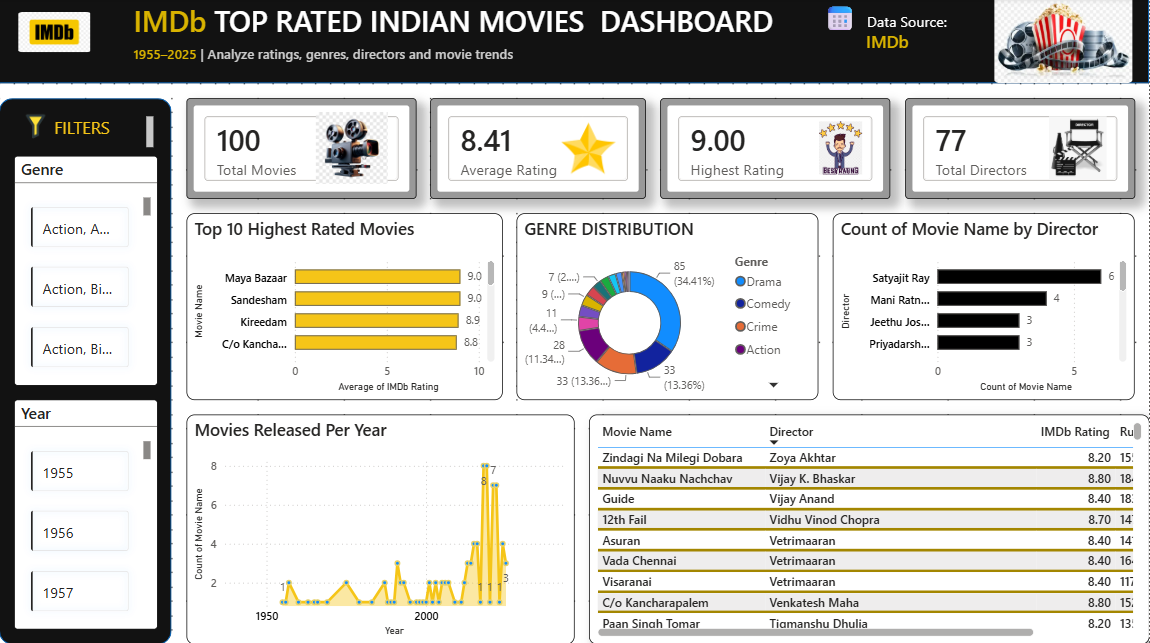

The dashboard page shown, as its layout file describes it:
{"tool":"powerbi","page":{"name":"Executive overview","canvas":[1280,720],"ordinal":0},"visuals":[{"type":"shape","box":[0,0,1280,96],"z":0},{"type":"image","box":[16,16,90,45],"z":1000},{"type":"textbox","box":[144,0,864,64],"z":2000},{"type":"textbox","box":[144,48,656,48],"z":3000},{"type":"textbox","box":[912,0,176,80],"z":4000},{"type":"textbox","box":[960,32,96,48],"z":5000},{"type":"image","box":[1104,0,160,96],"z":6000},{"type":"shape","box":[0,112,192,608],"z":7000},{"type":"textbox","box":[16,128,160,48],"z":8000},{"type":"image","box":[16,128,48,32],"z":9000},{"type":"cardVisual","fields":{"Data":["Movies.Total Movies"]},"box":[208,112,256,112],"z":10000},{"type":"cardVisual","fields":{"Data":["Movies.Highest Rating"]},"box":[736,112,256,112],"z":11000},{"type":"cardVisual","fields":{"Data":["Movies.Total Directors"]},"box":[1008,112,256,112],"z":12000},{"type":"image","box":[336,128,112,80],"z":13000},{"type":"image","box":[1168,128,64,80],"z":14000},{"type":"image","box":[912,128,48,80],"z":15000},{"type":"cardVisual","fields":{"Data":["Movies.Average Rating"]},"box":[480,112,240,112],"z":16000},{"type":"advancedSlicerVisual","fields":{"Values":["Movies.Genre"]},"box":[16,176,160,256],"z":17000},{"type":"advancedSlicerVisual","fields":{"Values":["Movies.Year"]},"box":[16,448,160,256],"z":18000},{"type":"barChart","title":"Top 10 Highest Rated Movies","fields":{"Category":["Movies.Movie Name"],"Y":["Avg(Movies.IMDb Rating)"]},"box":[208,240,352,208],"z":19000},{"type":"donutChart","title":"GENRE DISTRIBUTION","fields":{"Category":["Genre.Genre"],"Y":["CountNonNull(Genre.Genre)"]},"box":[576,240,336,208],"z":20000},{"type":"lineChart","title":"Movies Released Per Year","fields":{"Category":["Movies.Year"],"Y":["CountNonNull(Movies.Movie Name)"]},"box":[208,464,432,256],"z":21000},{"type":"clusteredBarChart","fields":{"Category":["Movies.Director"],"Y":["CountNonNull(Movies.Movie Name)"]},"box":[928,240,336,208],"z":22000},{"type":"image","box":[608,128,96,80],"z":23000},{"type":"tableEx","title":"TOP MOVIES OVERVIEW","fields":{"Values":["Movies.Movie Name","Movies.Director","Movies.IMDb Rating","Movies.Runtime Minutes","Movies.Year"]},"box":[656,464,624,256],"z":23001}]}

Visuals, with their boxes in screenshot pixels (x1, y1, x2, y2), scaled from the page's 1280x720 canvas onto the 1150x643 screenshot:
shape: l=0, t=0, r=1149, b=86
image: l=14, t=14, r=95, b=54
textbox: l=129, t=0, r=906, b=57
textbox: l=129, t=43, r=719, b=86
textbox: l=819, t=0, r=978, b=71
textbox: l=862, t=29, r=949, b=71
image: l=992, t=0, r=1136, b=86
shape: l=0, t=100, r=172, b=642
textbox: l=14, t=114, r=158, b=157
image: l=14, t=114, r=58, b=143
cardVisual - Movies.Total Movies: l=187, t=100, r=417, b=200
cardVisual - Movies.Highest Rating: l=661, t=100, r=891, b=200
cardVisual - Movies.Total Directors: l=906, t=100, r=1136, b=200
image: l=302, t=114, r=402, b=186
image: l=1049, t=114, r=1107, b=186
image: l=819, t=114, r=862, b=186
cardVisual - Movies.Average Rating: l=431, t=100, r=647, b=200
advancedSlicerVisual - Movies.Genre: l=14, t=157, r=158, b=386
advancedSlicerVisual - Movies.Year: l=14, t=400, r=158, b=629
"Top 10 Highest Rated Movies" barChart: l=187, t=214, r=503, b=400
"GENRE DISTRIBUTION" donutChart: l=518, t=214, r=819, b=400
"Movies Released Per Year" lineChart: l=187, t=414, r=575, b=642
clusteredBarChart - Movies.Director x CountNonNull(Movies.Movie Name): l=834, t=214, r=1136, b=400
image: l=546, t=114, r=632, b=186
"TOP MOVIES OVERVIEW" tableEx: l=589, t=414, r=1149, b=642
